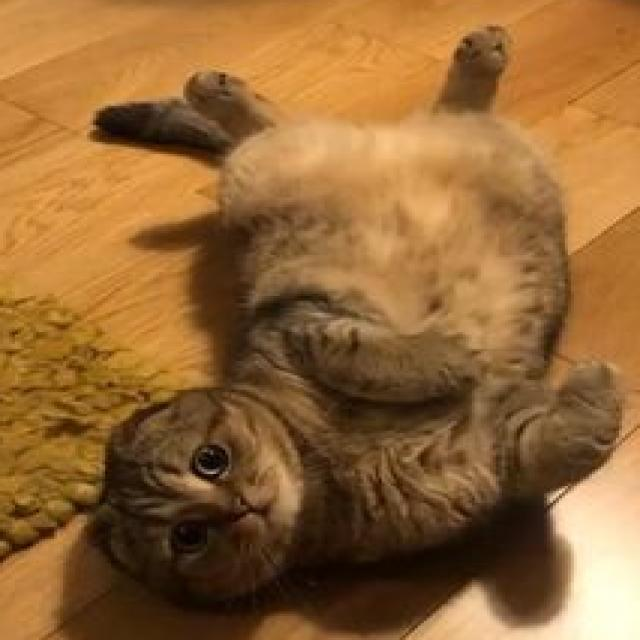Scottish Fold: (83, 19, 632, 618)
